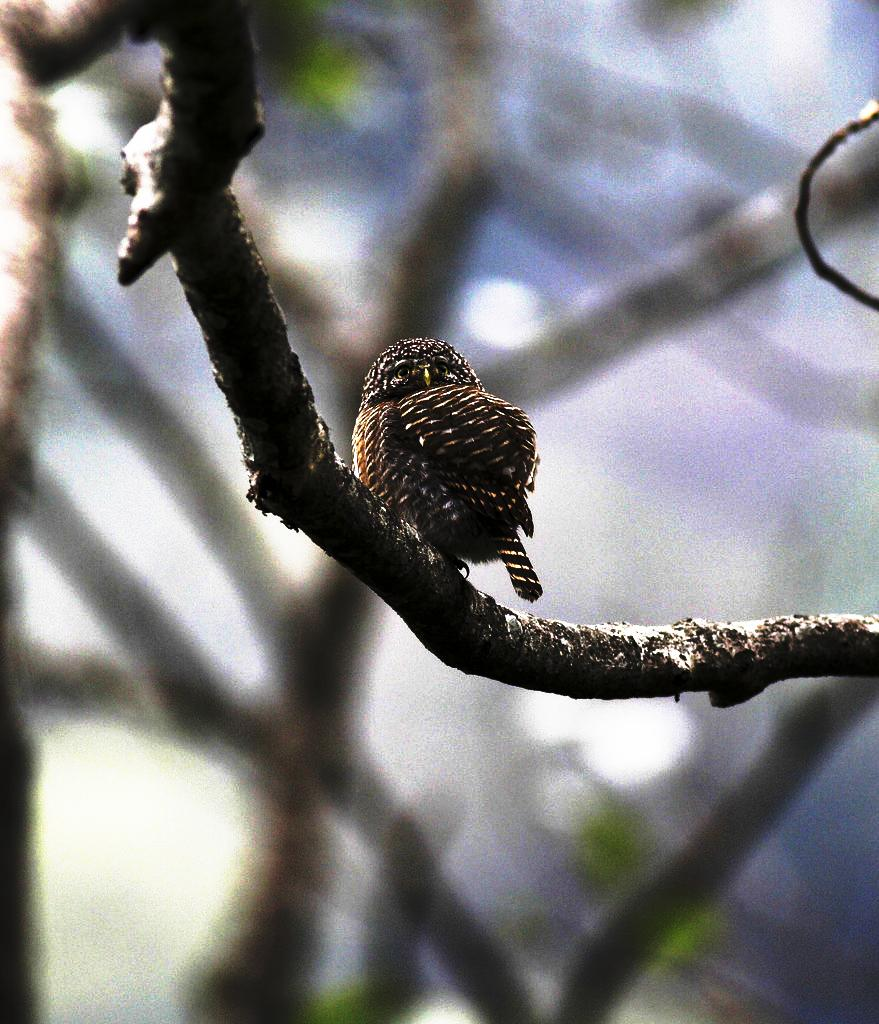Owl: (347, 334, 547, 604)
